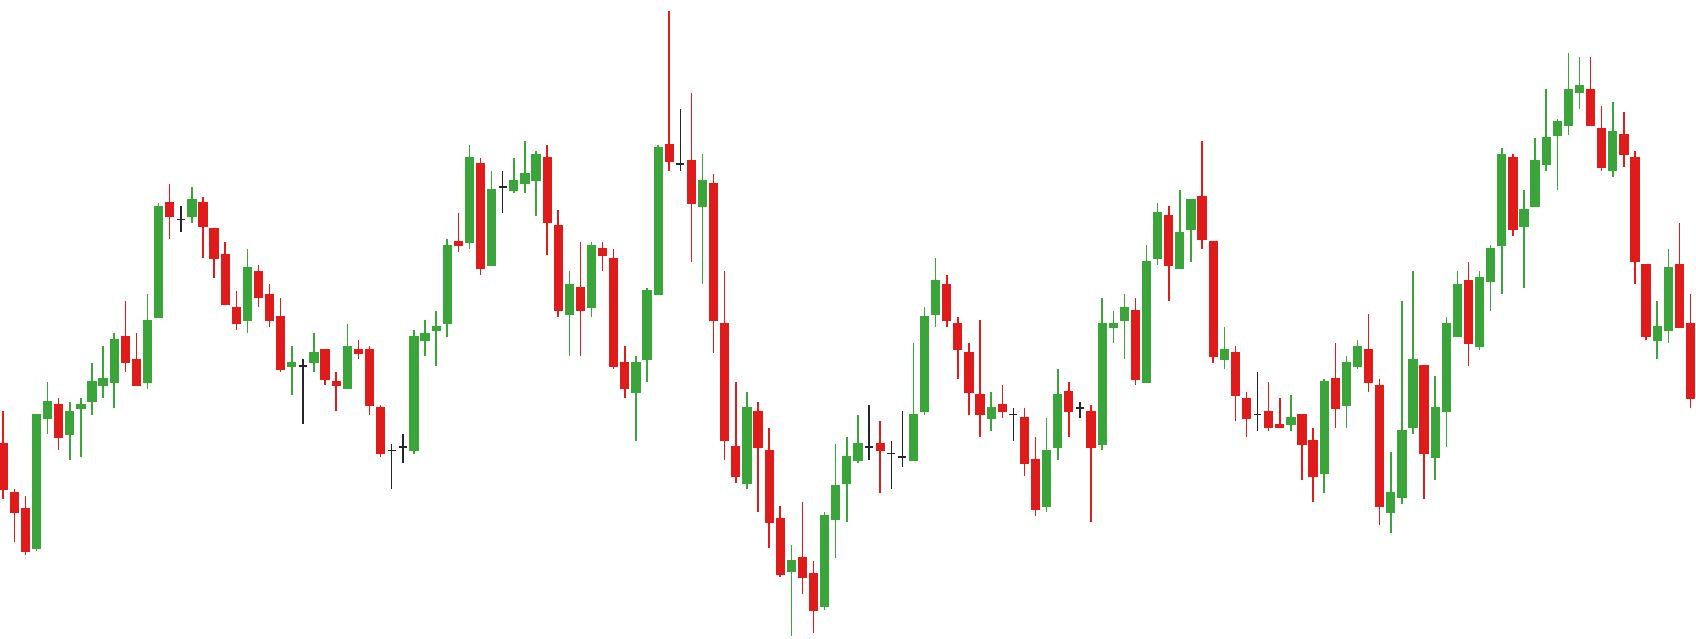buy: (1306, 388, 1397, 541), (1017, 397, 1097, 528)
sell: (517, 14, 677, 287)
